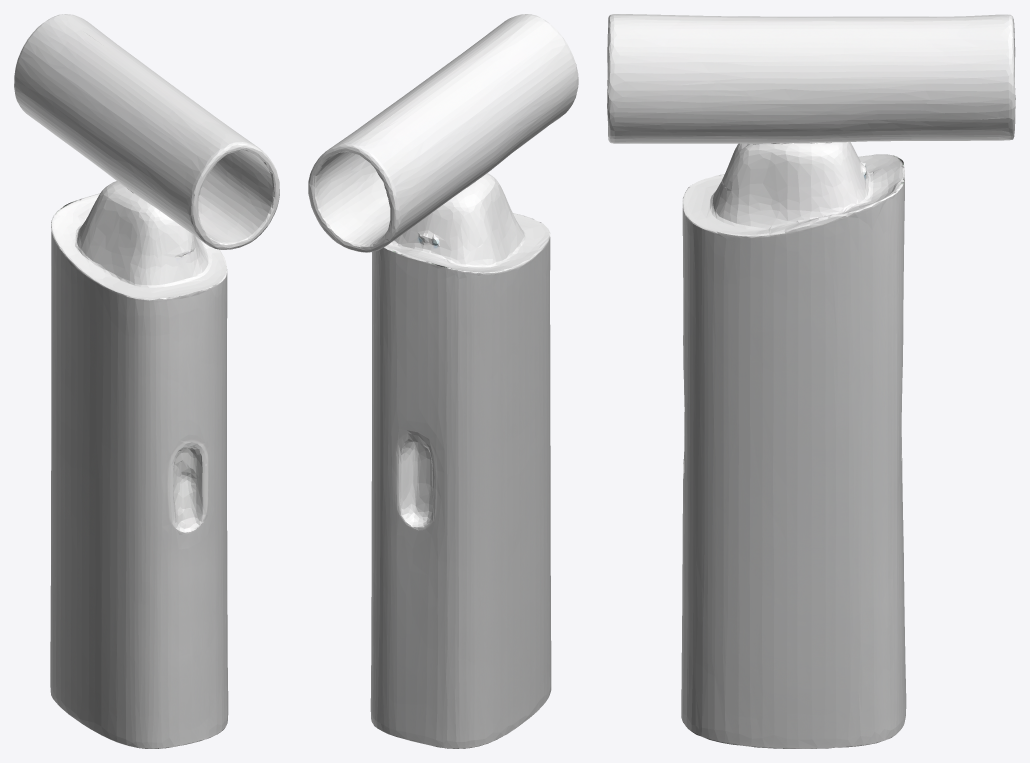
The model's file is spiro-module.glb.
3 renders of one model, left to right at view 1: azimuth 30°, elevation 25°; view 2: azimuth 150°, elevation 25°; view 3: azimuth 270°, elevation 25°, orthographic. The views are drawn at different scales.
Visible parts, largest first — view 1: world; view 2: world; view 3: world.
Boxes of the visible parts, x1=… form: world: x1=14, y1=14, x2=279, y2=748; world: x1=308, y1=14, x2=578, y2=748; world: x1=607, y1=14, x2=1015, y2=748.
Size of the model in its own units: 0.2181 by 0.9934 by 0.5243.
Materials: 1 (1 with a texture image).
